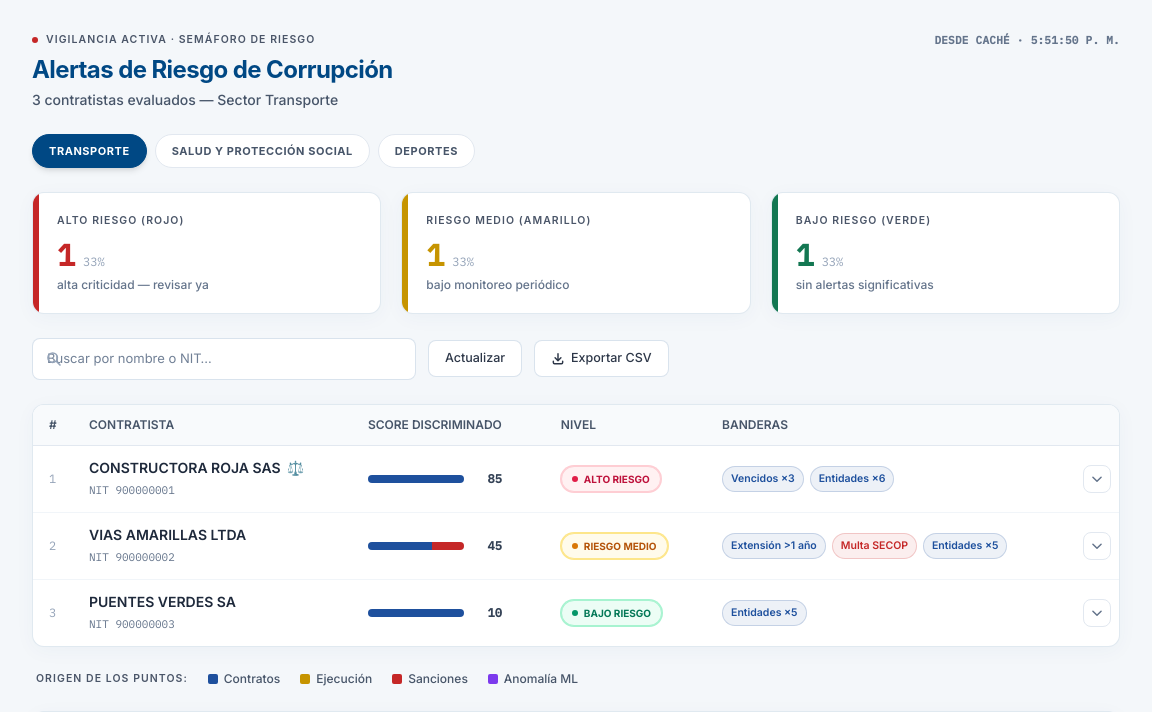
Scenario: AlertasPage: los scores de la API se muestran correctamente › la búsqueda filtra por nombre y por NIT
Expected: the text "CONSTRUCTORA ROJA SAS" is shown, left=89, top=458, right=281, bottom=478
Type "amarillas" into the field labelled "Buscar por nombre o NIT".
click(224, 359); type("amarillas")  # box left=32, top=338, right=416, bottom=380
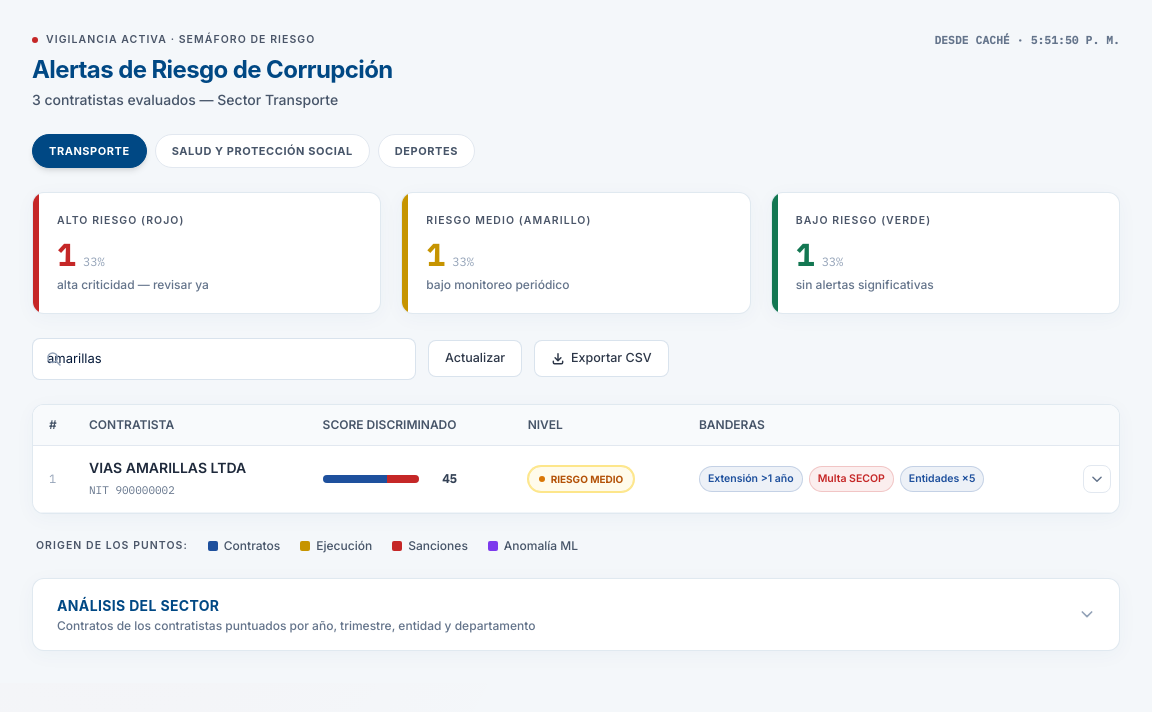
Expected: the text "VIAS AMARILLAS LTDA" is shown, left=89, top=458, right=246, bottom=478
Now the text "CONSTRUCTORA ROJA SAS" is gone
Replace the text in the field named "Buscar por nombre o NIT" with "900000003" at (224, 359), box left=32, top=338, right=416, bottom=380
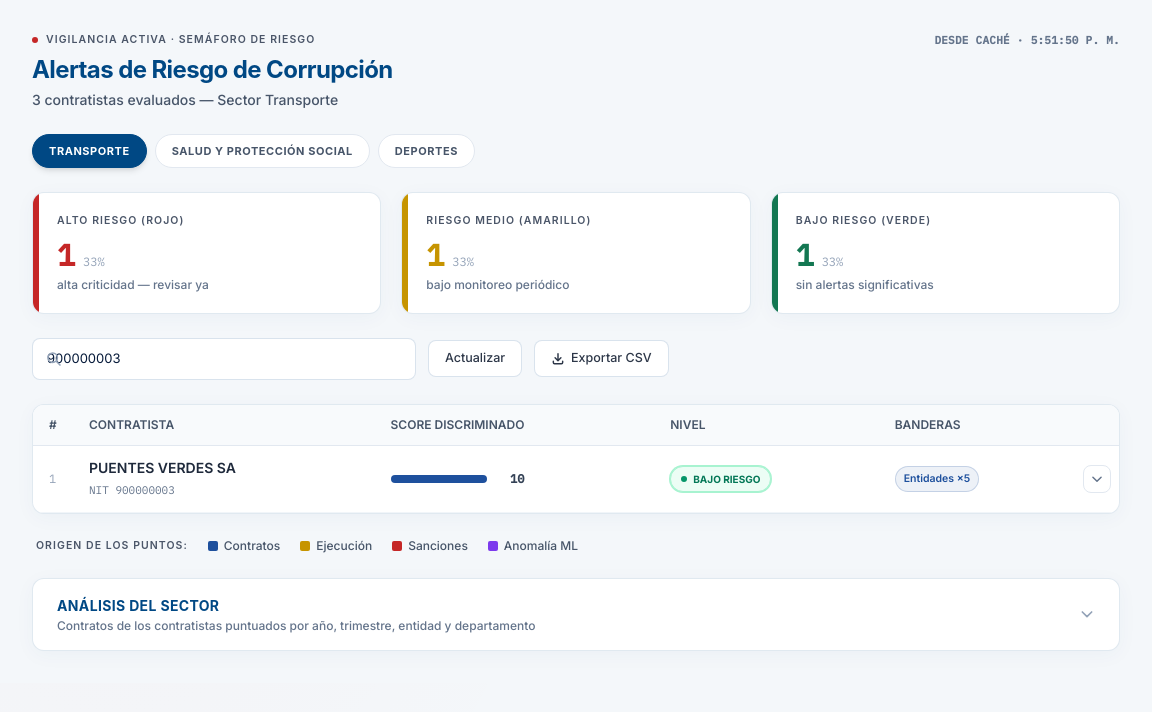
Now the text "PUENTES VERDES SA" is shown, box left=89, top=458, right=236, bottom=478
Now the text "VIAS AMARILLAS LTDA" is gone
